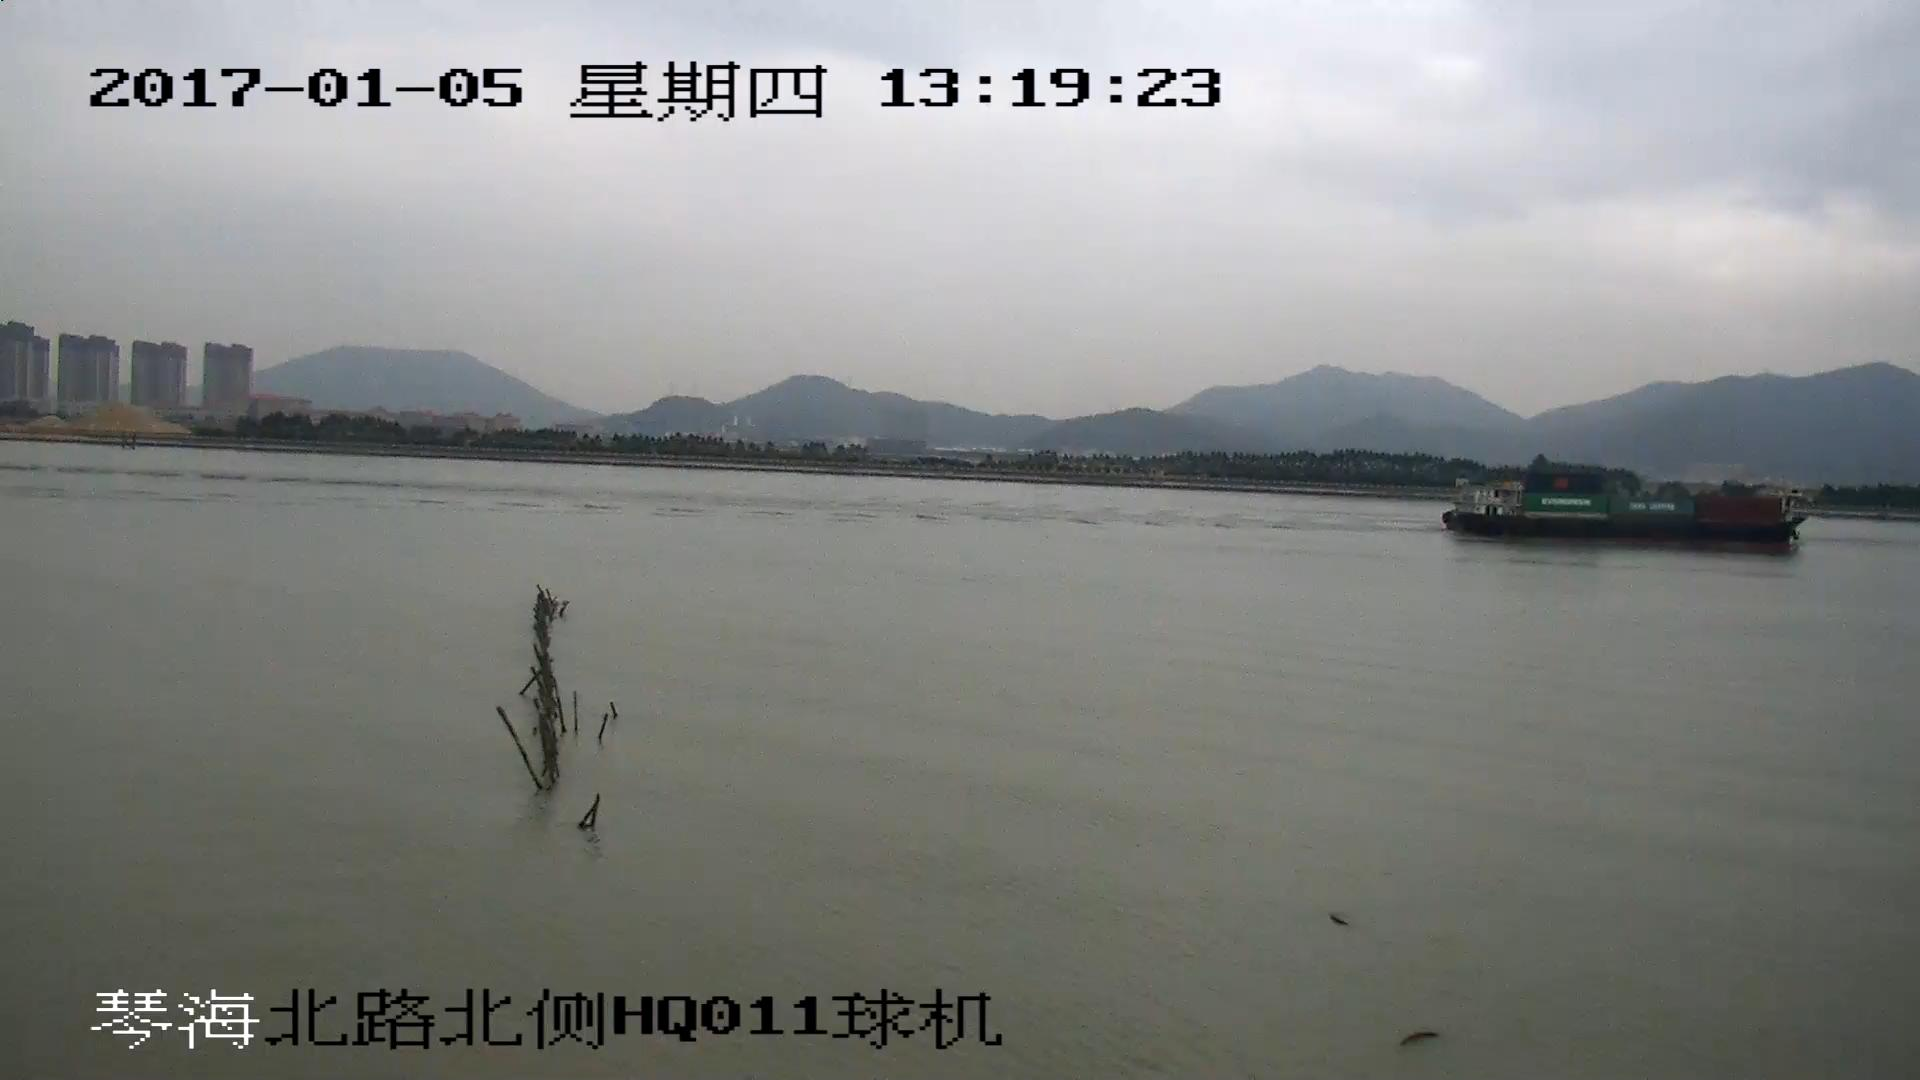container ship: (1445, 473, 1795, 545)
